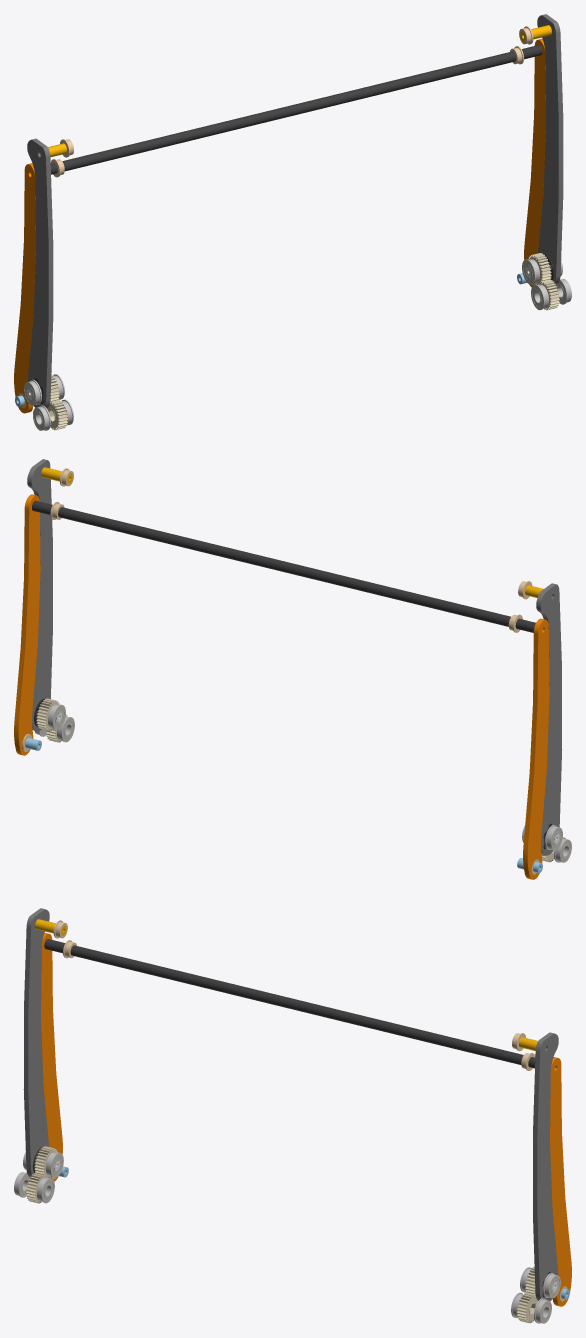
The picture shows the model from 3 angles, top to bottom: view 1: azimuth 30°, elevation 25°; view 2: azimuth 150°, elevation 25°; view 3: azimuth 330°, elevation 25°; orthographic projection.
Parts seen in each view (by area): view 1: upper linkage (×2), lower linkage (×2), 0.196" ID Custom Spacer (0.5" OD,27.625" L); view 2: lower linkage (×2), upper linkage (×2), 0.196" ID Custom Spacer (0.5" OD,27.625" L); view 3: upper linkage (×2), lower linkage (×2), 0.196" ID Custom Spacer (0.5" OD,27.625" L).
Part boxes in pixels (<box>): upper linkage (×2): <box>27,14,563,408</box>; lower linkage (×2): <box>14,38,545,413</box>; 0.196" ID Custom Spacer (0.5" OD,27.625" L): <box>50,45,542,174</box>; lower linkage (×2): <box>14,494,549,879</box>; upper linkage (×2): <box>27,459,562,855</box>; 0.196" ID Custom Spacer (0.5" OD,27.625" L): <box>32,500,535,632</box>; upper linkage (×2): <box>23,908,558,1301</box>; lower linkage (×2): <box>41,933,571,1306</box>; 0.196" ID Custom Spacer (0.5" OD,27.625" L): <box>44,939,535,1068</box>.
Bounding box in the file's own units: 0.7318 × 0.373 × 0.094.
